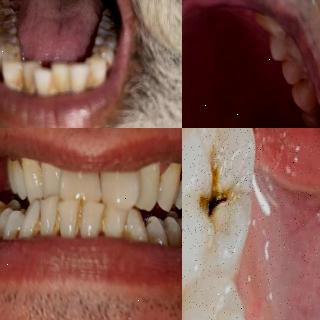calculus: (54, 76, 90, 92), (70, 206, 86, 240), (49, 208, 65, 238), (94, 208, 108, 232), (30, 212, 42, 240)
cavities: (192, 128, 259, 250)
maligned: (98, 165, 140, 207), (61, 165, 101, 201), (54, 196, 82, 234), (81, 199, 105, 243), (36, 192, 60, 231), (41, 160, 64, 198), (20, 199, 44, 233), (30, 59, 50, 88)
stains: (266, 28, 282, 56), (287, 82, 305, 105), (140, 219, 158, 239), (119, 219, 132, 241), (278, 55, 292, 73), (296, 109, 310, 126)
